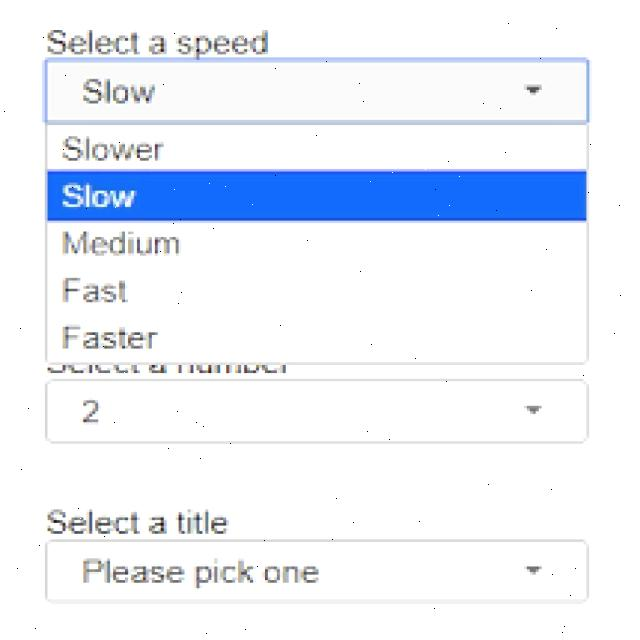dropdownMenu: (43, 57, 591, 363), (47, 378, 589, 444), (44, 539, 590, 604)
label: (44, 25, 272, 59), (44, 502, 233, 538)
menuItem: (47, 170, 586, 221), (60, 228, 184, 259), (59, 133, 169, 164), (59, 321, 160, 354), (60, 273, 134, 308)
